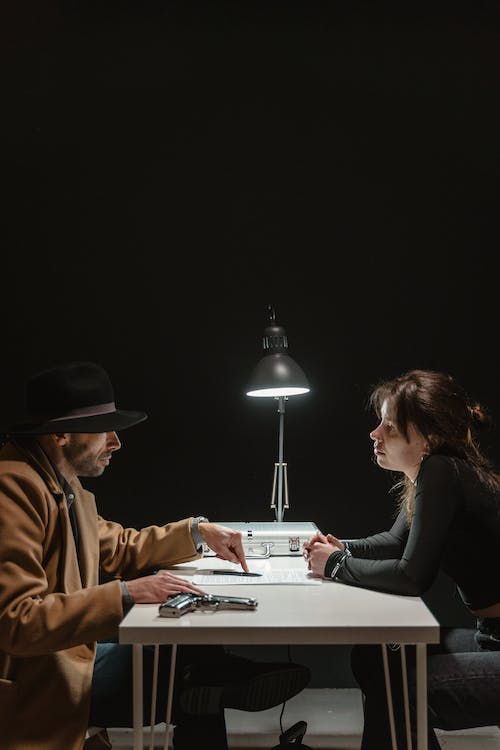gun: (155, 590, 261, 622)
